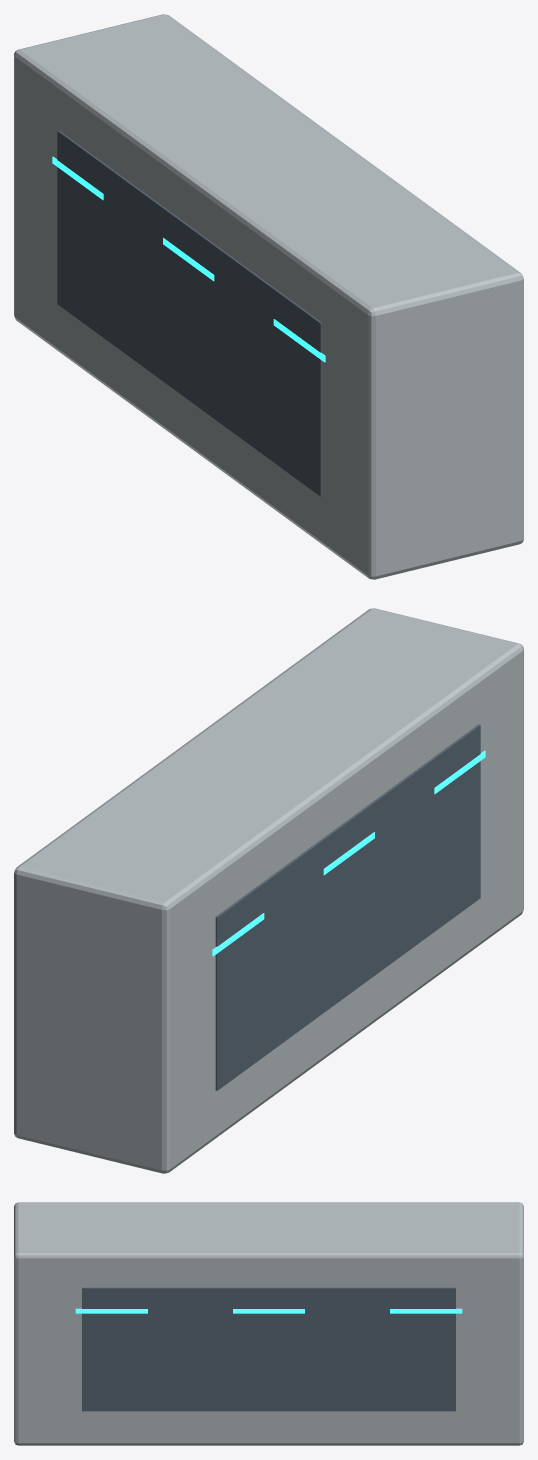
Rendered from ready-screen.glb.
The picture shows the model from 3 angles, top to bottom: view 1: azimuth 30°, elevation 25°; view 2: azimuth 150°, elevation 25°; view 3: azimuth 270°, elevation 25°; orthographic projection. The views are drawn at different scales.
Visible parts, largest first — view 1: Visual_ReadyScreen_Shell, Visual_Merged_ZA_ReadyScreen_Root_Graphite_Paint, Visual_Merged_ZA_ReadyScreen_Root_Zero_Cyan_Emissive; view 2: Visual_ReadyScreen_Shell, Visual_Merged_ZA_ReadyScreen_Root_Graphite_Paint, Visual_Merged_ZA_ReadyScreen_Root_Zero_Cyan_Emissive; view 3: Visual_ReadyScreen_Shell, Visual_Merged_ZA_ReadyScreen_Root_Graphite_Paint, Visual_Merged_ZA_ReadyScreen_Root_Zero_Cyan_Emissive.
Boxes of the visible parts, x1,y1,x2,y2 form: Visual_ReadyScreen_Shell: (14, 14, 523, 579); Visual_Merged_ZA_ReadyScreen_Root_Graphite_Paint: (57, 130, 322, 496); Visual_Merged_ZA_ReadyScreen_Root_Zero_Cyan_Emissive: (52, 156, 325, 362); Visual_ReadyScreen_Shell: (14, 608, 523, 1173); Visual_Merged_ZA_ReadyScreen_Root_Graphite_Paint: (215, 724, 480, 1090); Visual_Merged_ZA_ReadyScreen_Root_Zero_Cyan_Emissive: (212, 750, 485, 956); Visual_ReadyScreen_Shell: (14, 1202, 523, 1445); Visual_Merged_ZA_ReadyScreen_Root_Graphite_Paint: (82, 1287, 455, 1411); Visual_Merged_ZA_ReadyScreen_Root_Zero_Cyan_Emissive: (75, 1308, 462, 1313).
Bounding box in the file's own units: 3.11 × 5 × 12.
